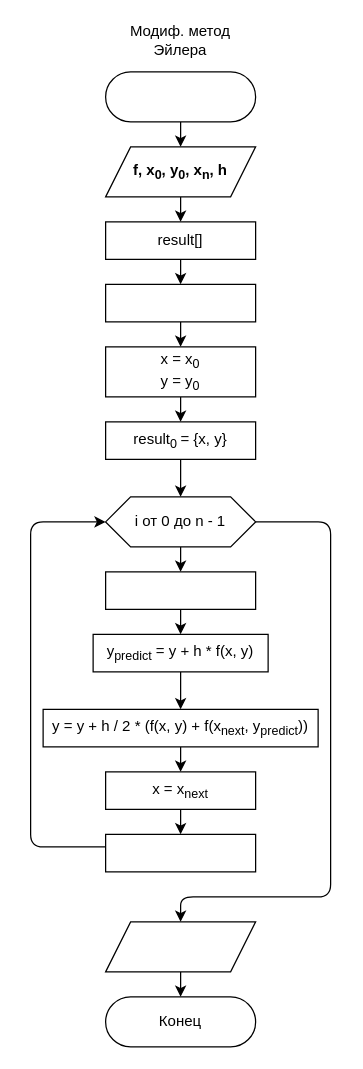
This 363x1069 diagram has some shape labels left out. The centre of each missing label's shape, as x and y in pixels:
"n = steps(x 0 , x n , h)" belongs at (x=180, y=302).
"result" belongs at (x=180, y=946).
"result i+1 = {x, y}" belongs at (x=180, y=852).
"x next = x 0 + (i + 1) * h" belongs at (x=180, y=590).
"Начало" belongs at (x=180, y=96).
